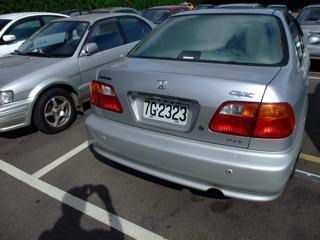plate: (141, 94, 189, 128)
